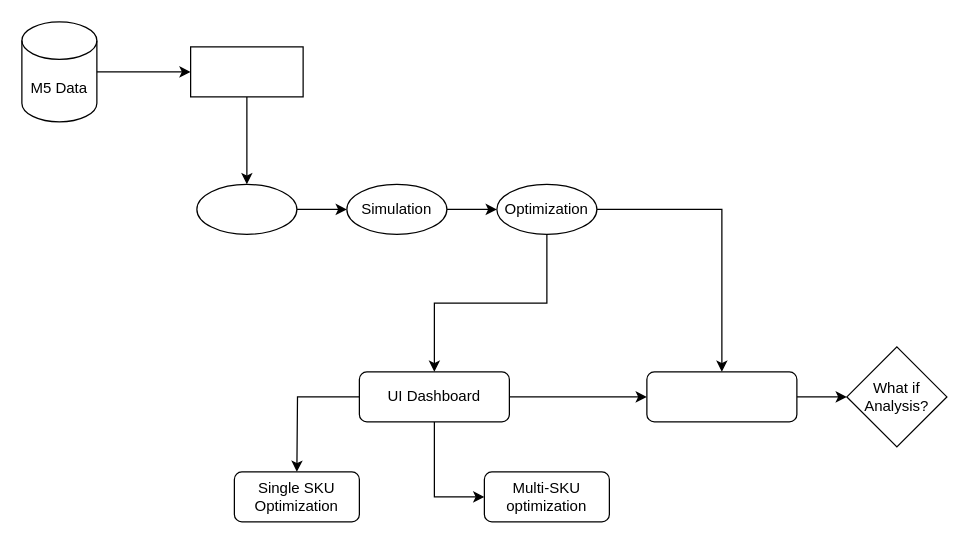
Some shapes in this 969 by 544 pixel diagram are drawn without their labels. The shapes that lost their labels are listed below. From the top down, each one's box as (x1, y1, x2, y2) in pixels, then its label:
(189, 46, 303, 97): Trained Model
(196, 183, 297, 234): Forecast
(646, 371, 797, 422): AI Assistant (MCP)
